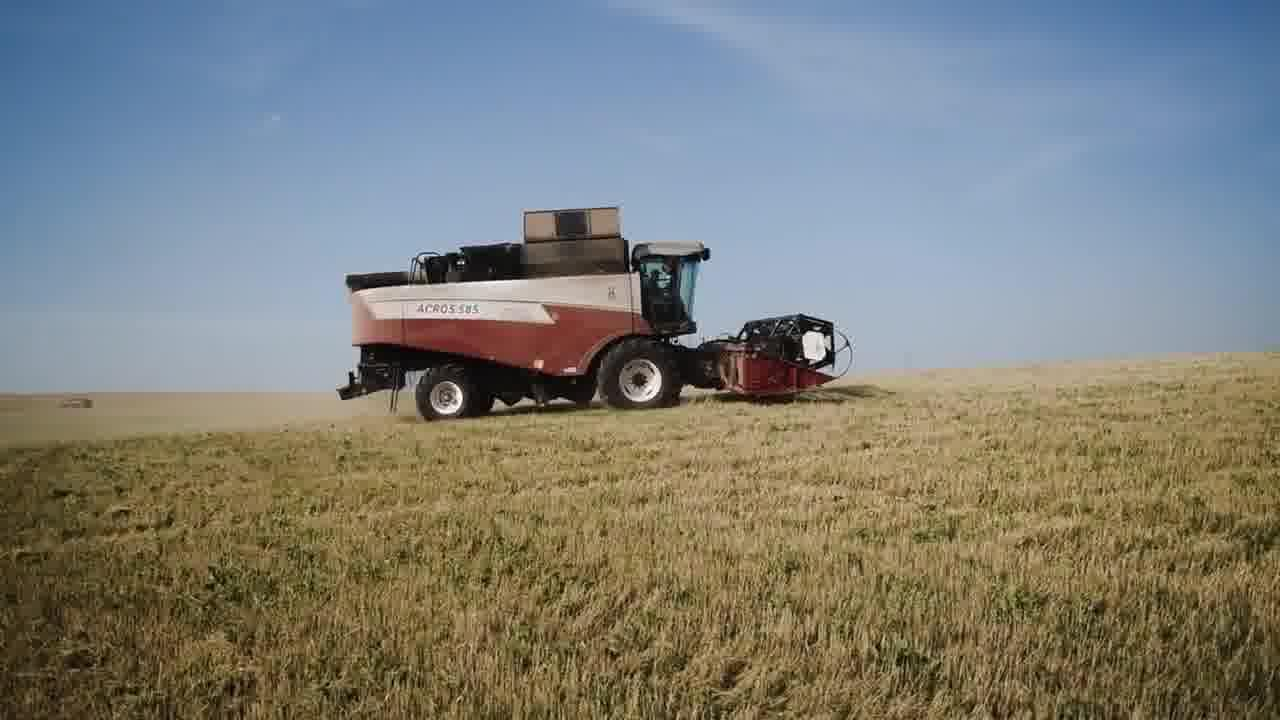combine harvester: (327, 199, 867, 427)
